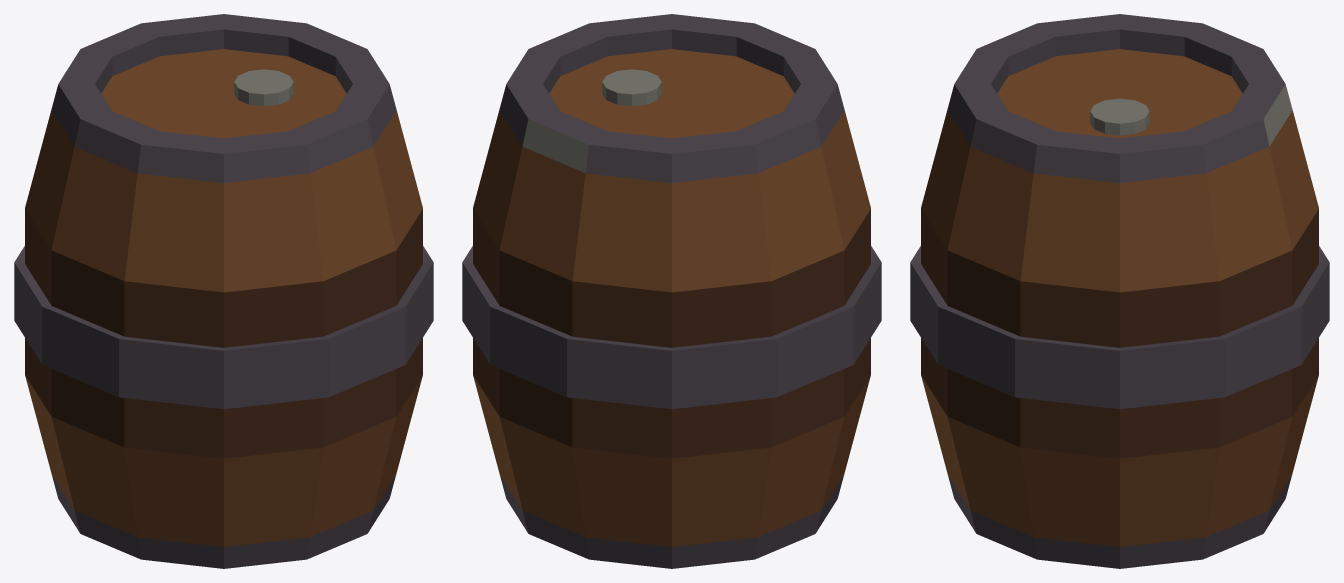
Rendered from Barell.fbx.
3 views of the same model, side by side, from view 1: azimuth 30°, elevation 25°; view 2: azimuth 150°, elevation 25°; view 3: azimuth 270°, elevation 25° (orthographic).
Parts seen in each view (by area): view 1: Cylinder; view 2: Cylinder; view 3: Cylinder.
Boxes of the visible parts, x1=… form: Cylinder: x1=14, y1=14, x2=433, y2=568; Cylinder: x1=462, y1=14, x2=881, y2=568; Cylinder: x1=910, y1=14, x2=1329, y2=568.
Bounding box in the file's own units: 1.25 × 1.36 × 1.25.
